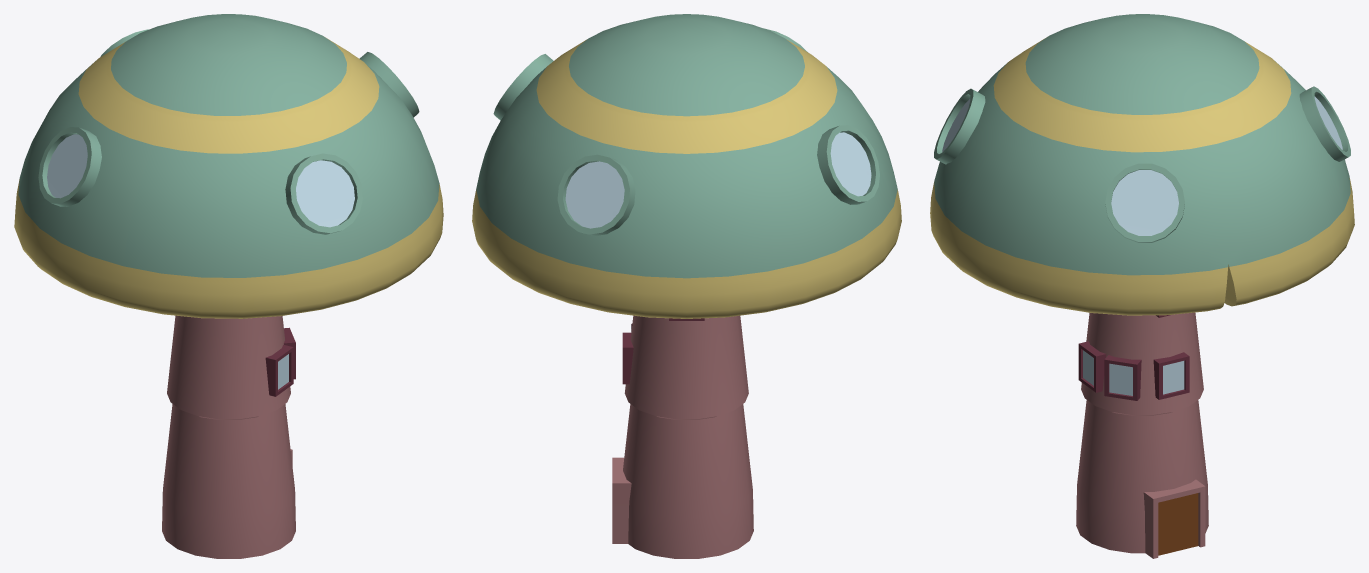
File: moguwu_02.FBX
3 views of the same model, side by side, from view 1: azimuth 30°, elevation 25°; view 2: azimuth 150°, elevation 25°; view 3: azimuth 270°, elevation 25° (orthographic).
Parts seen in each view (by area): view 1: moguwu_02; view 2: moguwu_02; view 3: moguwu_02.
Boxes of the visible parts, x1=… form: moguwu_02: x1=14, y1=14, x2=443, y2=558; moguwu_02: x1=472, y1=14, x2=901, y2=558; moguwu_02: x1=930, y1=14, x2=1354, y2=558.
Bounding box in the file's own units: 311 × 398 × 311.
